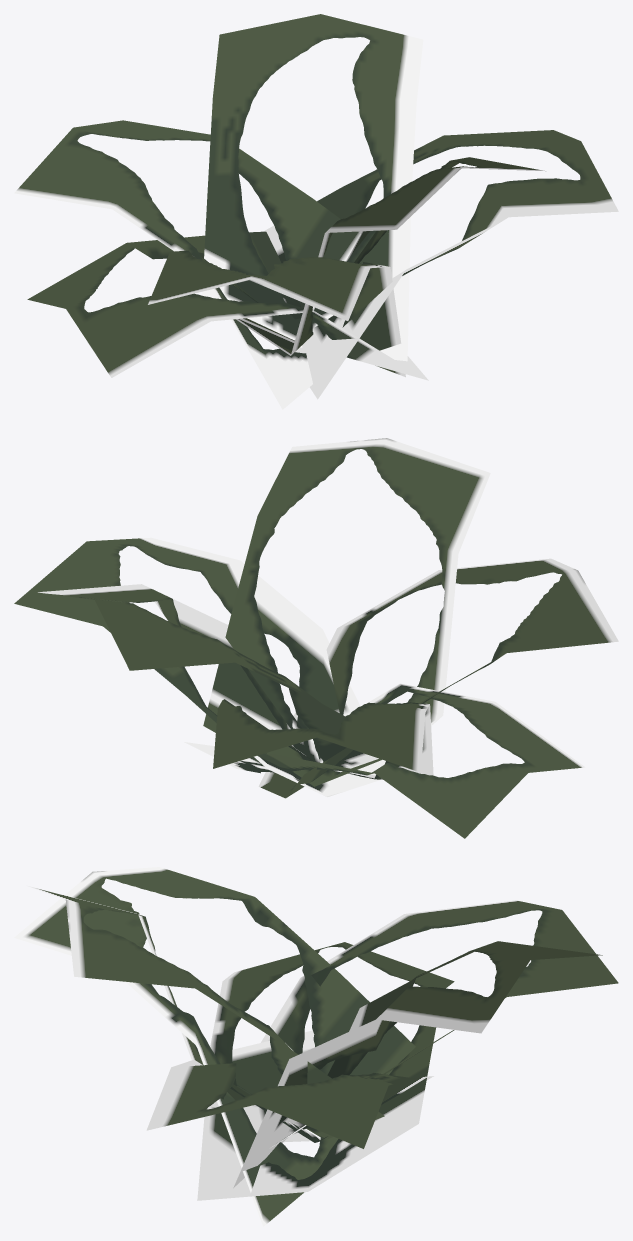
Rendered from bush-03.fbx.
The picture shows the model from 3 angles, top to bottom: view 1: azimuth 30°, elevation 25°; view 2: azimuth 150°, elevation 25°; view 3: azimuth 270°, elevation 25°; orthographic projection. The views are drawn at different scales.
Visible parts, largest first — view 1: bush_03; view 2: bush_03; view 3: bush_03.
Boxes of the visible parts, bbox=[...] form: bush_03: bbox=[14, 14, 618, 409]; bush_03: bbox=[14, 438, 618, 838]; bush_03: bbox=[14, 867, 618, 1226].
Size of the model in its own units: 199 by 108 by 192.
